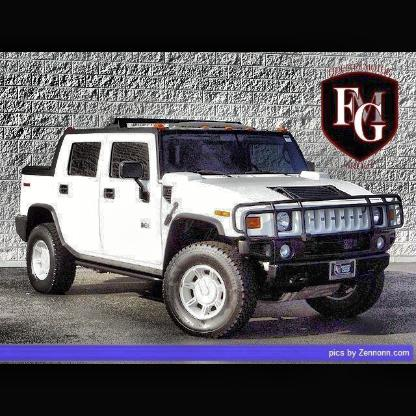HUMMER H2 SUT Crew Cab 2009: (15, 120, 405, 339)
